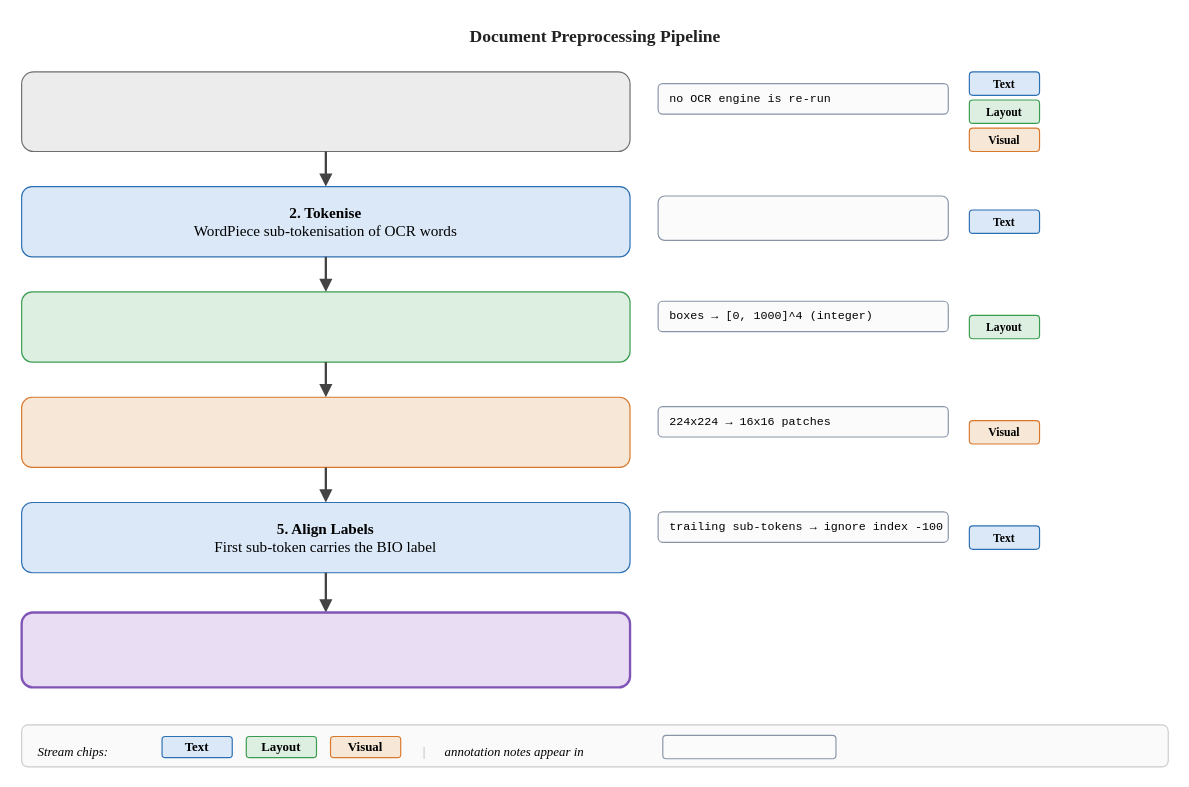
This 1189x787 diagram has some shape labels left out. Here are the shapes that lost their labels. From the top down, the centre of each, then its label:
the point at 325,111: 1. Load Dataset-provided OCR tokens, word boxes, page image
the point at 802,217: LayoutLMv3Processor (apply_ocr=False), max length 512
the point at 325,326: 3. Normalise Layout Scale word boxes; clamp degenerate boxes
the point at 325,431: 4. Encode Image Resize page image; split into patches
the point at 325,649: Tri-modal Model Inputs input_ids · bbox · pixel_values · labels
the point at 749,746: monospace note style
